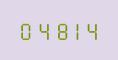eight: (50, 20, 65, 40)
four: (34, 20, 49, 40), (82, 20, 97, 40)
one: (66, 20, 81, 40)
zero: (18, 20, 33, 40)
